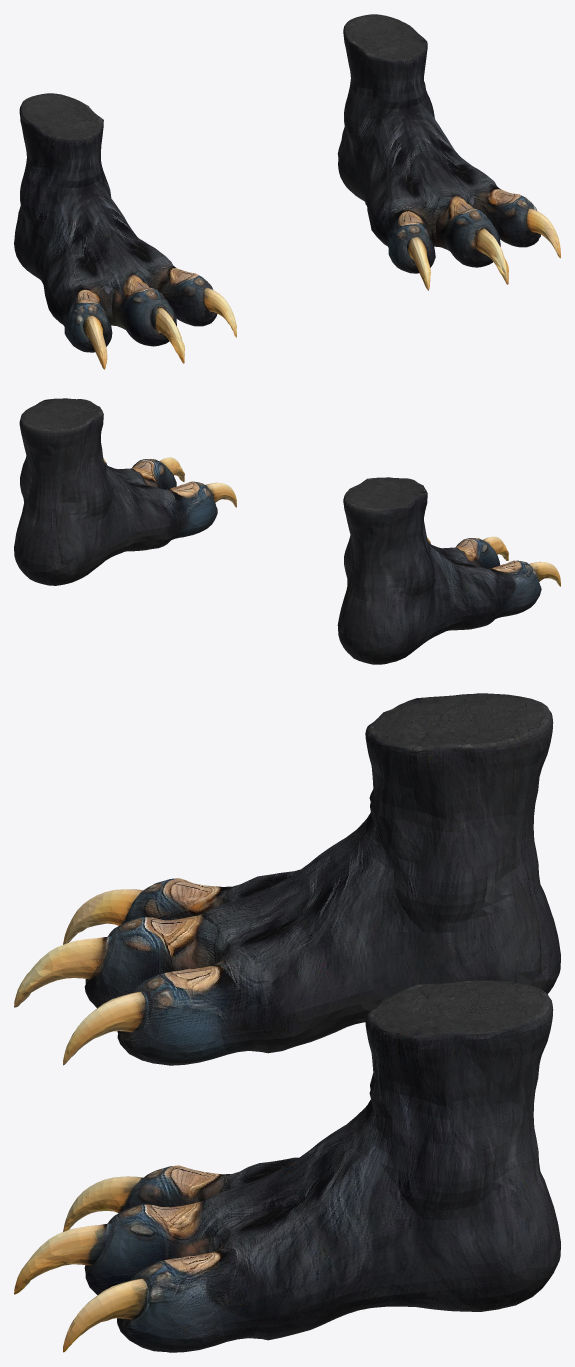
Rendered from ewm_beastfeet_fura.glb.
3 renders of one model, top to bottom at view 1: azimuth 30°, elevation 25°; view 2: azimuth 150°, elevation 25°; view 3: azimuth 270°, elevation 25°, orthographic. The views are drawn at different scales.
Visible parts, largest first — view 1: ewm_beastfeet_fura; view 2: ewm_beastfeet_fura; view 3: ewm_beastfeet_fura.
Part boxes in pixels (x1=…): ewm_beastfeet_fura: x1=14, y1=14, x2=560, y2=369; ewm_beastfeet_fura: x1=14, y1=398, x2=560, y2=664; ewm_beastfeet_fura: x1=14, y1=693, x2=560, y2=1352.
Bounding box in the file's own units: 0.5874 × 0.2 × 0.3292.
Materials: 1 (1 with a texture image).
